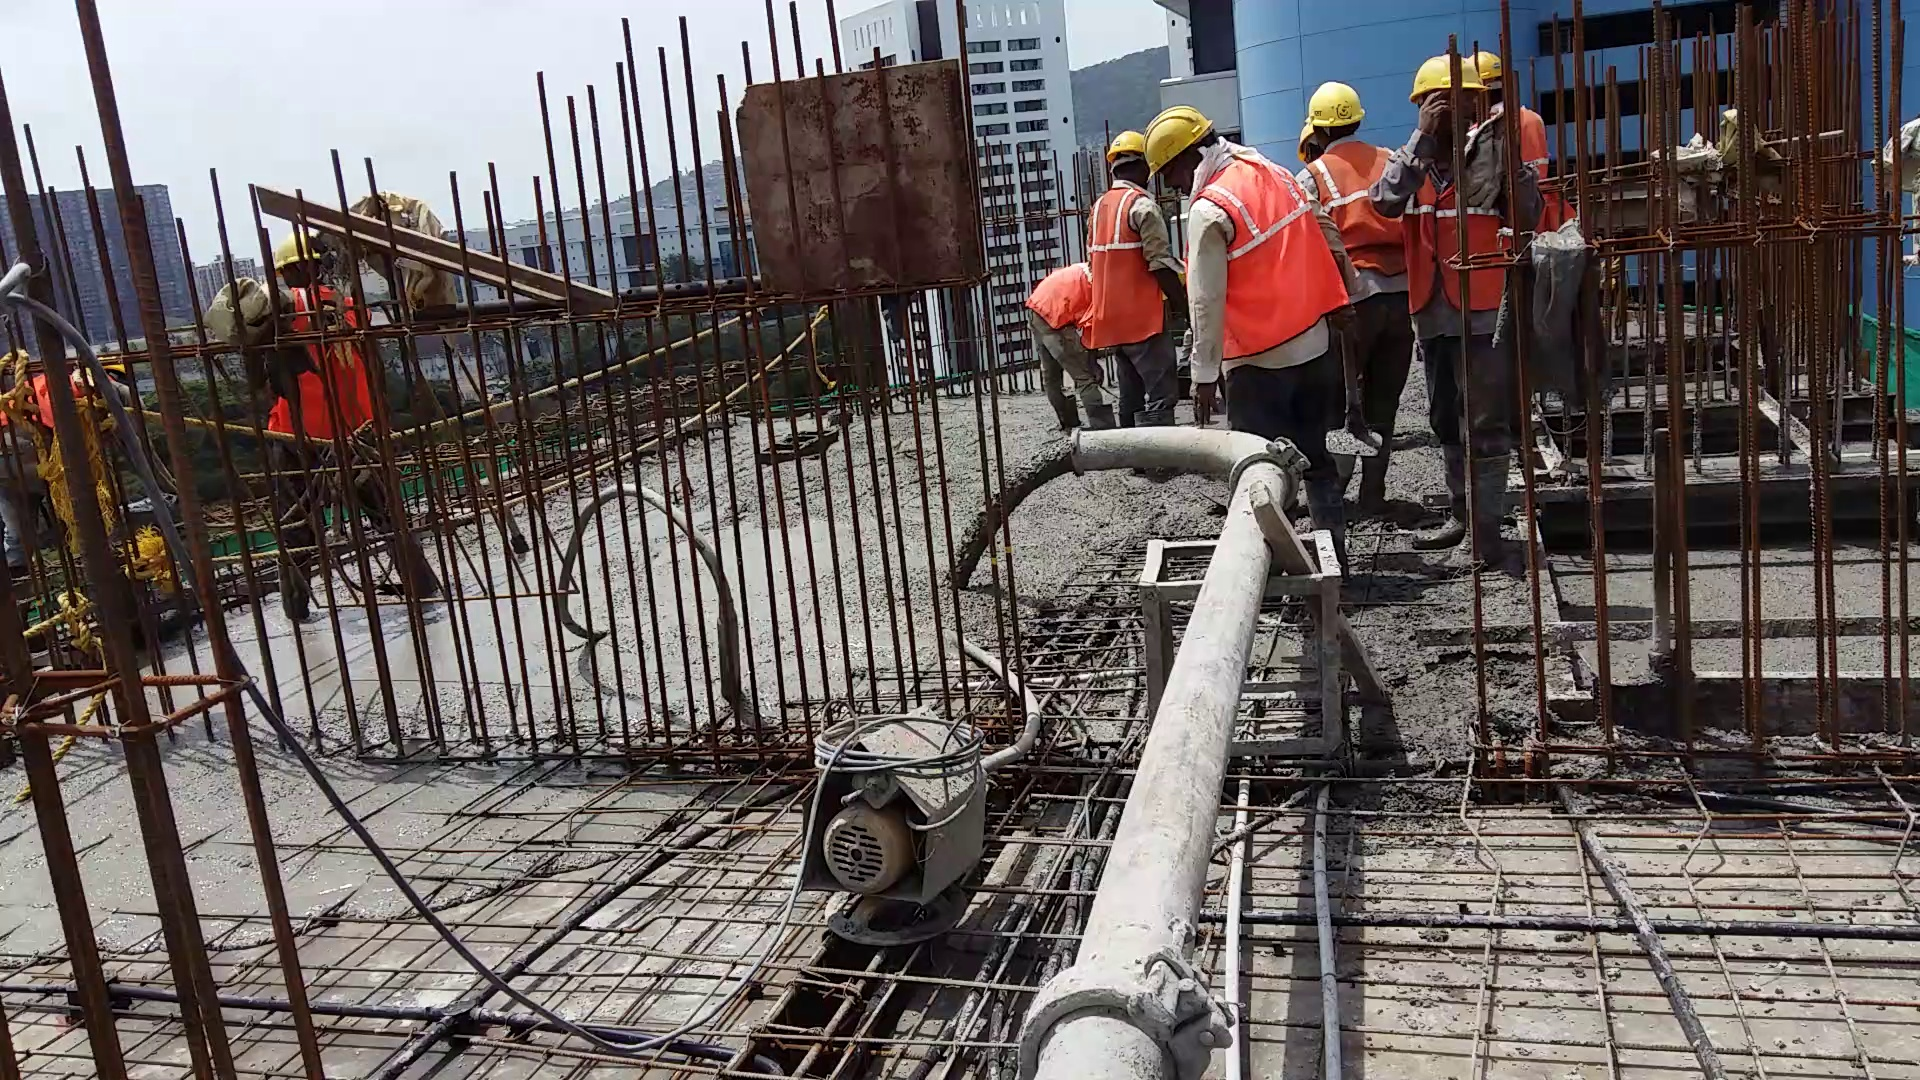SAFE: (1146, 107, 1307, 349), (1386, 61, 1501, 328), (1312, 69, 1391, 291), (1093, 121, 1153, 361)
